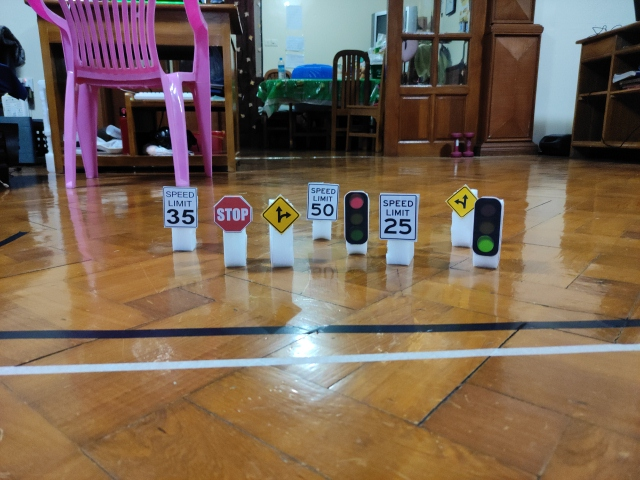Green Traffic Light: (472, 195, 502, 256)
Red Traffic Light: (343, 191, 370, 245)
Speed Limit 25: (379, 193, 418, 239)
Speed Limit 35: (162, 185, 198, 228)
Speed Limit 50: (305, 182, 338, 220)
Stop Sign: (214, 195, 253, 232)
Straight Or Left Sign: (447, 184, 477, 216)
Straight Or Right Sign: (261, 195, 300, 233)
